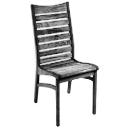chair_success: (24, 0, 101, 127)
